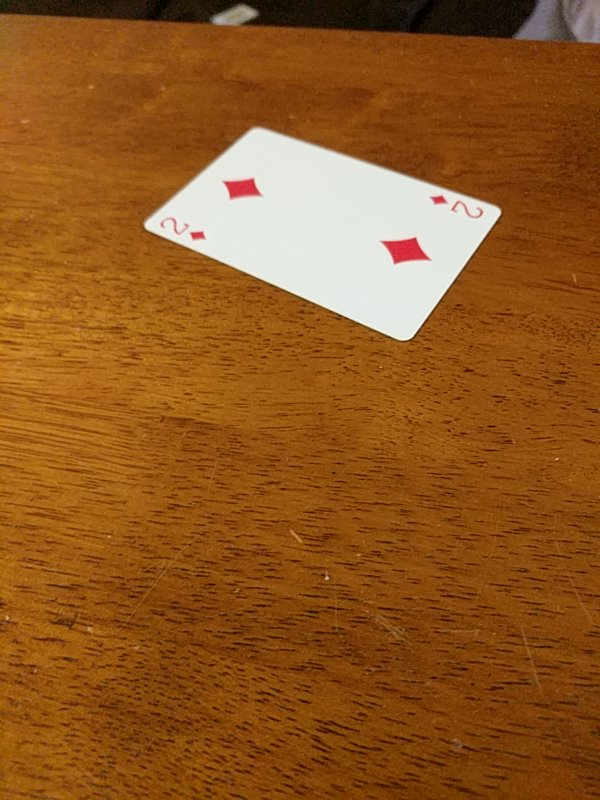Diamonds: (143, 125, 503, 344)
